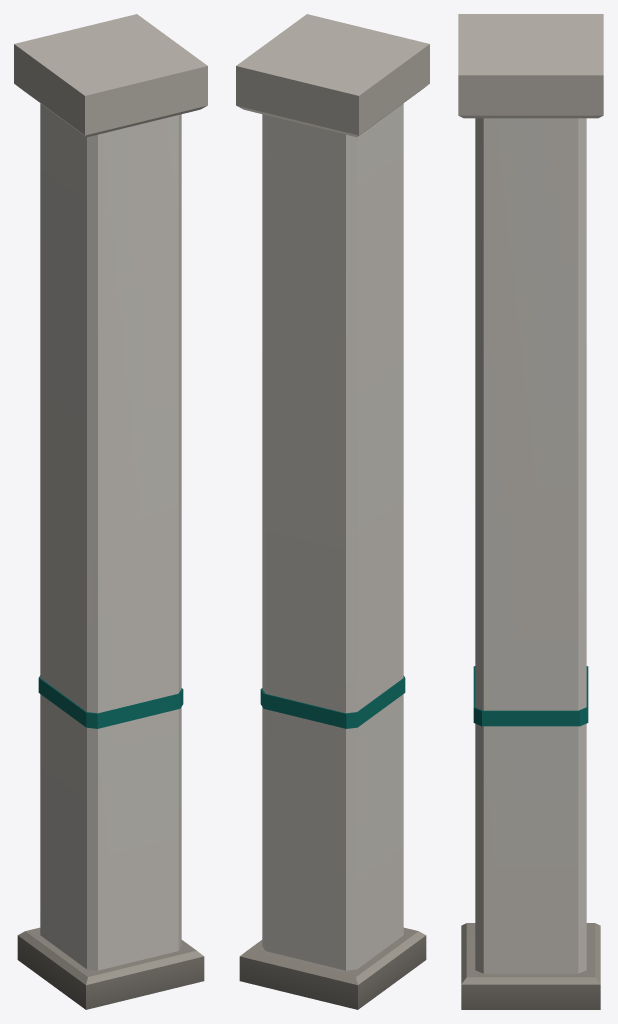
Rendered from column_01.glb.
The picture shows the model from 3 angles, left to right: view 1: azimuth 30°, elevation 25°; view 2: azimuth 150°, elevation 25°; view 3: azimuth 270°, elevation 25°; orthographic projection. The views are drawn at different scales.
Visible parts, largest first — view 1: column_01_mesh; view 2: column_01_mesh; view 3: column_01_mesh.
Part boxes in pixels (bbox=[...]): column_01_mesh: bbox=[14, 14, 207, 1009]; column_01_mesh: bbox=[236, 14, 429, 1009]; column_01_mesh: bbox=[458, 14, 603, 1009].
Bounding box in the file's own units: 0.52 × 3.7 × 0.52.
1 material, 1 textured.
